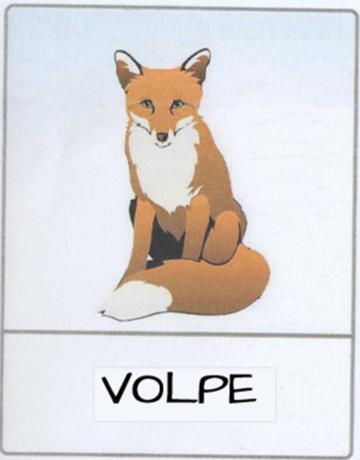volpe: (1, 2, 360, 460)
